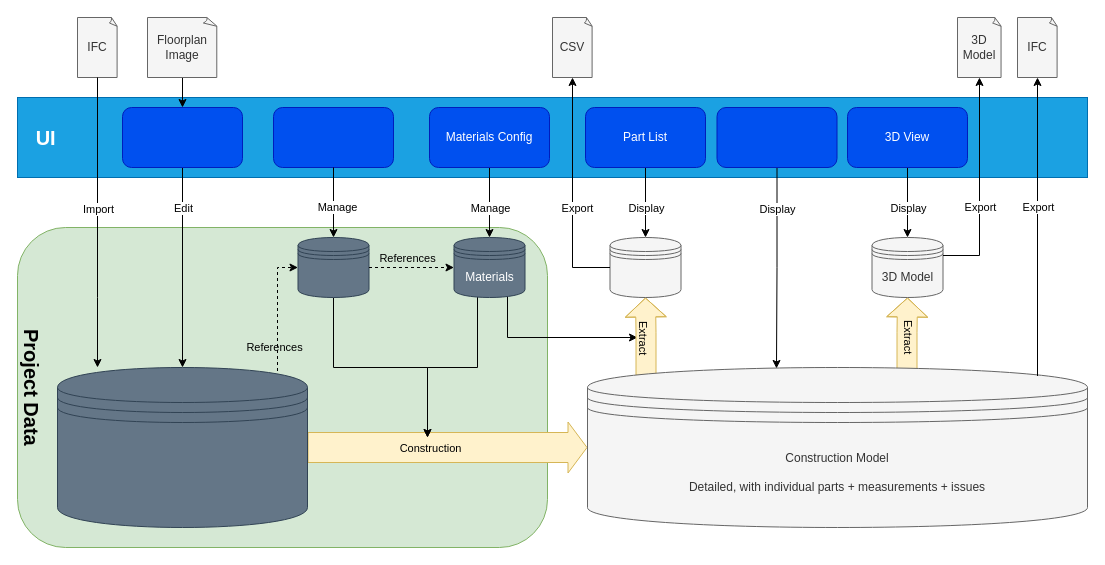
Some shapes in this 1105 by 565 pixel diagram are drawn without their labels. The centre of each missing label's shape, as x and y in pixels:
Assembly Config: point 333,137
Building Model Abstract, finished dimensions: point 182,447
Config: point 333,267
Editor: point 182,137
Parts: point 645,267
Plan: point 776,137
